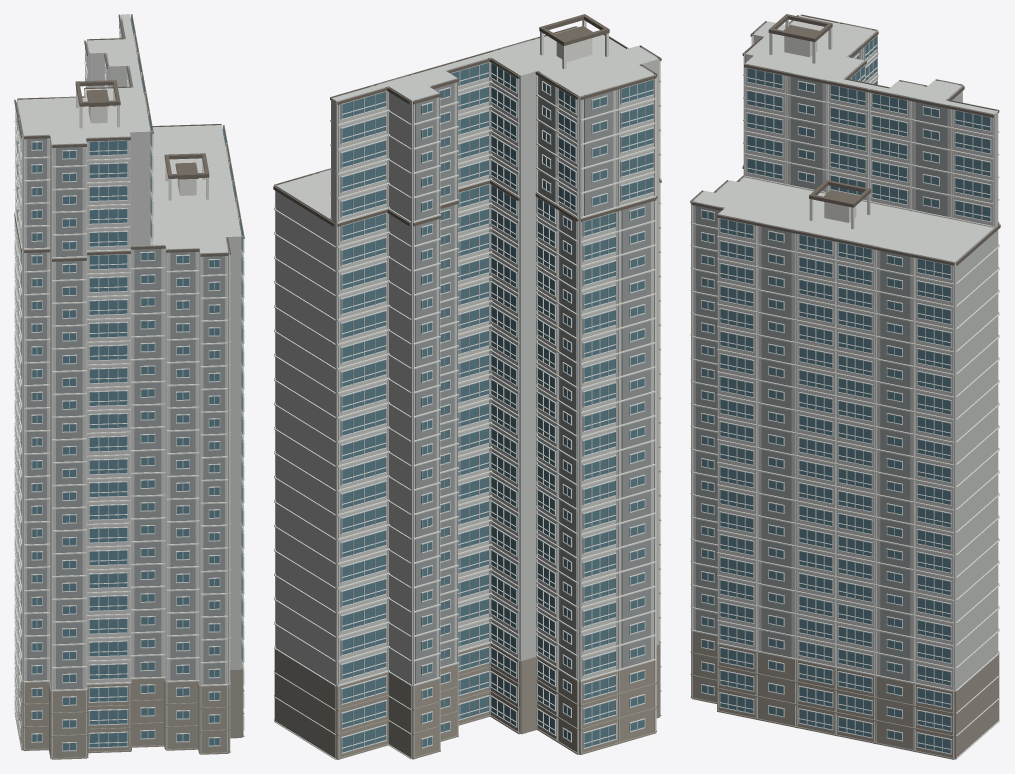
The model's file is bespoke-banpo-xi-133.glb.
3 views of the same model, side by side, from view 1: azimuth 30°, elevation 25°; view 2: azimuth 150°, elevation 25°; view 3: azimuth 270°, elevation 25° (orthographic). The views are drawn at different scales.
Parts seen in each view (by area): view 1: editable_BX133_pale_silver_limestone, editable_BX133_grey_service_core, editable_BX133_blue_grey_broad_glazing, editable_BX133_ivory_course_bands, editable_BX133_white_window_frames, editable_BX133_warm_ground_stone, editable_BX133_dark_coping; view 2: editable_BX133_pale_silver_limestone, editable_BX133_blue_grey_broad_glazing, editable_BX133_white_window_frames, editable_BX133_ivory_course_bands, editable_BX133_grey_service_core, editable_BX133_warm_ground_stone, editable_BX133_dark_coping; view 3: editable_BX133_pale_silver_limestone, editable_BX133_blue_grey_broad_glazing, editable_BX133_white_window_frames, editable_BX133_grey_service_core, editable_BX133_ivory_course_bands, editable_BX133_warm_ground_stone, editable_BX133_dark_coping.
Part boxes in pixels (box(x1,y1,x2,y2)): editable_BX133_pale_silver_limestone: box(17, 14, 241, 758); editable_BX133_grey_service_core: box(16, 36, 239, 689); editable_BX133_blue_grey_broad_glazing: box(16, 18, 242, 750); editable_BX133_ivory_course_bands: box(14, 14, 244, 759); editable_BX133_white_window_frames: box(14, 20, 244, 751); editable_BX133_warm_ground_stone: box(14, 662, 244, 759); editable_BX133_dark_coping: box(14, 14, 244, 261); editable_BX133_pale_silver_limestone: box(276, 27, 658, 758); editable_BX133_blue_grey_broad_glazing: box(340, 63, 652, 752); editable_BX133_white_window_frames: box(340, 62, 654, 753); editable_BX133_ivory_course_bands: box(274, 20, 661, 759); editable_BX133_grey_service_core: box(319, 40, 657, 683); editable_BX133_warm_ground_stone: box(274, 643, 661, 759); editable_BX133_dark_coping: box(273, 14, 661, 226); editable_BX133_pale_silver_limestone: box(693, 15, 998, 691); editable_BX133_blue_grey_broad_glazing: box(702, 36, 990, 753); editable_BX133_white_window_frames: box(701, 35, 991, 754); editable_BX133_grey_service_core: box(693, 20, 958, 681); editable_BX133_ivory_course_bands: box(690, 15, 999, 759); editable_BX133_warm_ground_stone: box(690, 631, 999, 759); editable_BX133_dark_coping: box(690, 14, 1000, 265).
Size of the model in its own units: 34.68 by 75.7 by 33.51.
